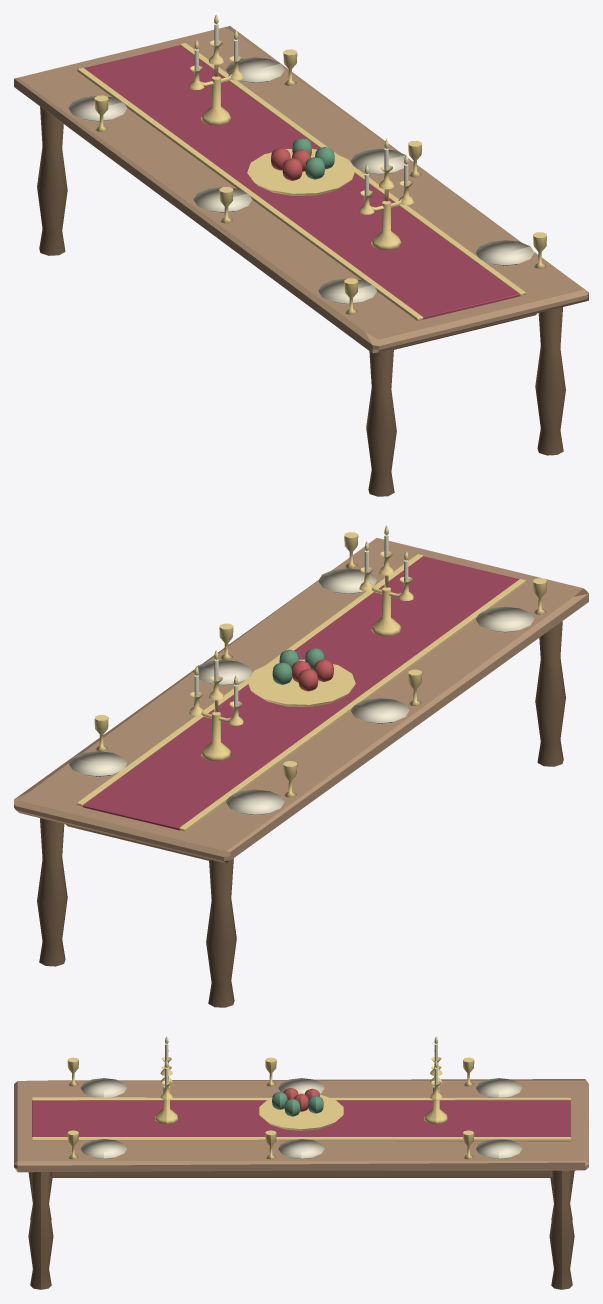
File: kajuete_tafel.glb
The picture shows the model from 3 angles, top to bottom: view 1: azimuth 30°, elevation 25°; view 2: azimuth 150°, elevation 25°; view 3: azimuth 270°, elevation 25°; orthographic projection. The views are drawn at different scales.
Visible parts, largest first — view 1: G_kajuete_tafel; view 2: G_kajuete_tafel; view 3: G_kajuete_tafel.
Part boxes in pixels (x1=…): G_kajuete_tafel: x1=14, y1=14, x2=588, y2=496; G_kajuete_tafel: x1=14, y1=525, x2=588, y2=1007; G_kajuete_tafel: x1=14, y1=1036, x2=588, y2=1289.
Size of the model in its own units: 1.1 by 1.33 by 3.2.
